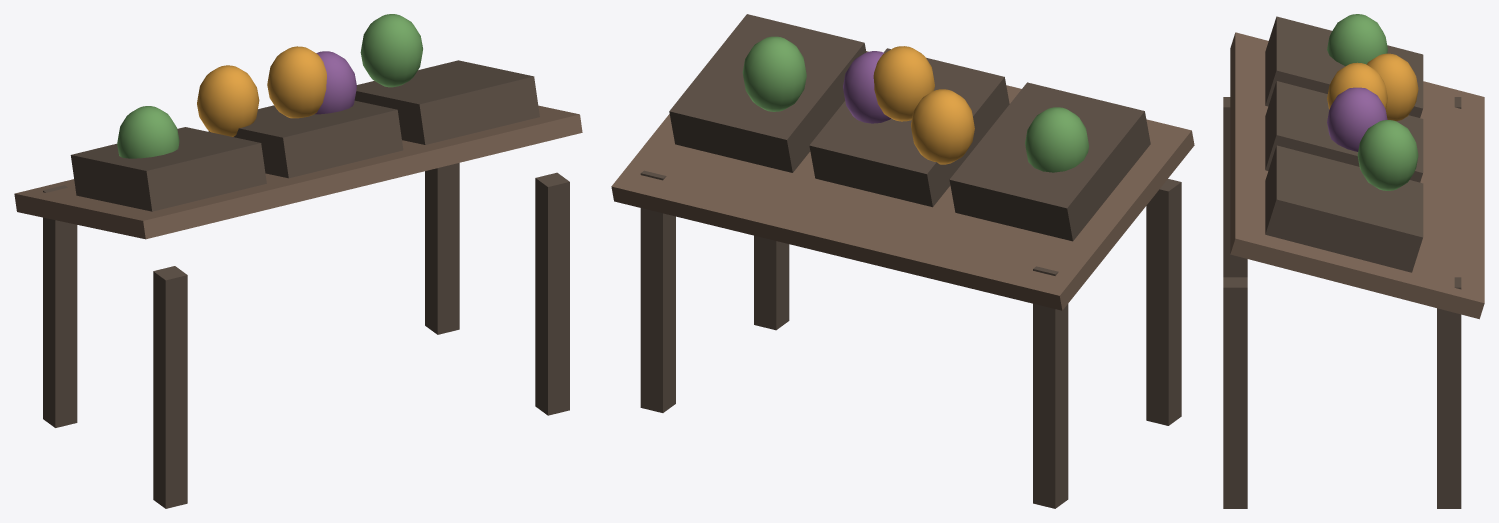
File: prop_yasai_dai.glb
The picture shows the model from 3 angles, left to right: view 1: azimuth 30°, elevation 25°; view 2: azimuth 150°, elevation 25°; view 3: azimuth 270°, elevation 25°; orthographic projection. The views are drawn at different scales.
Visible parts, largest first — view 1: yasai_dai; view 2: yasai_dai; view 3: yasai_dai.
Part boxes in pixels (x1=…): yasai_dai: x1=14, y1=14, x2=582, y2=508; yasai_dai: x1=611, y1=14, x2=1194, y2=508; yasai_dai: x1=1223, y1=14, x2=1484, y2=508.
Size of the model in its own units: 1.6 by 1.26 by 0.8568.
